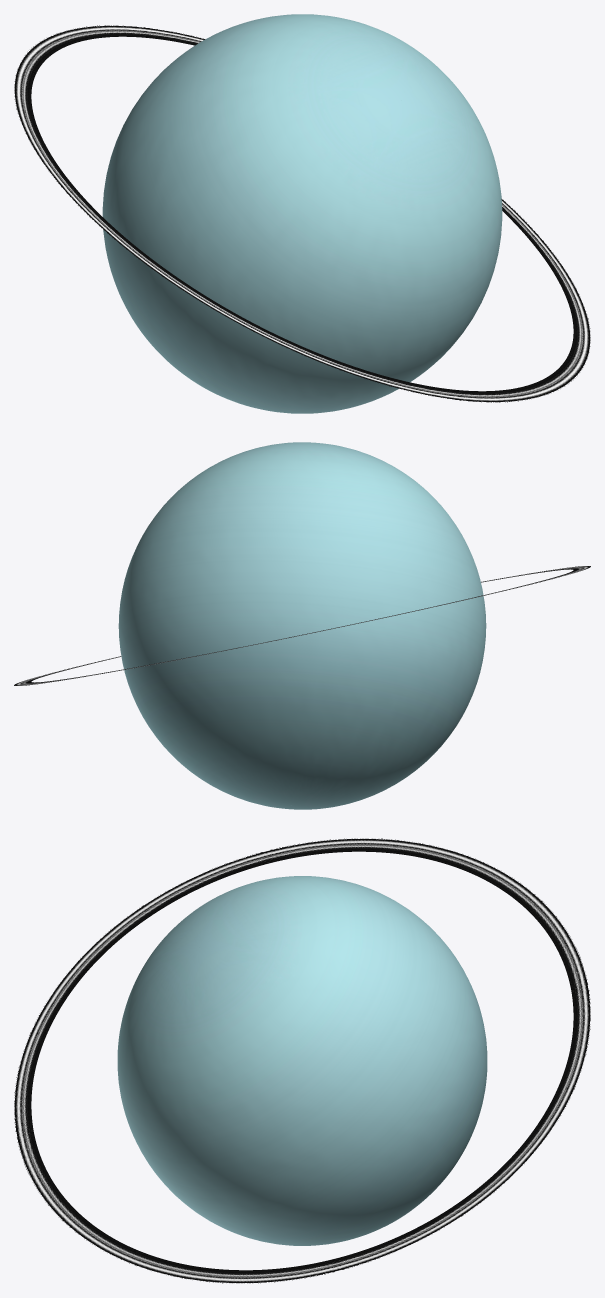
Rendered from realistic_uranus_4k-v1.glb.
3 renders of one model, top to bottom at view 1: azimuth 30°, elevation 25°; view 2: azimuth 150°, elevation 25°; view 3: azimuth 270°, elevation 25°, orthographic. The views are drawn at different scales.
Parts seen in each view (by area): view 1: Sphere, Circle; view 2: Sphere, Circle; view 3: Sphere, Circle.
Part boxes in pixels (bbox=[...]): Sphere: bbox=[102, 14, 502, 413]; Circle: bbox=[14, 25, 590, 402]; Sphere: bbox=[118, 442, 486, 809]; Circle: bbox=[14, 566, 590, 685]; Sphere: bbox=[117, 876, 487, 1245]; Circle: bbox=[14, 838, 590, 1283].
Bounding box in the file's own units: 1780 × 1194 × 1862.
Materials: 2 (2 with a texture image).
